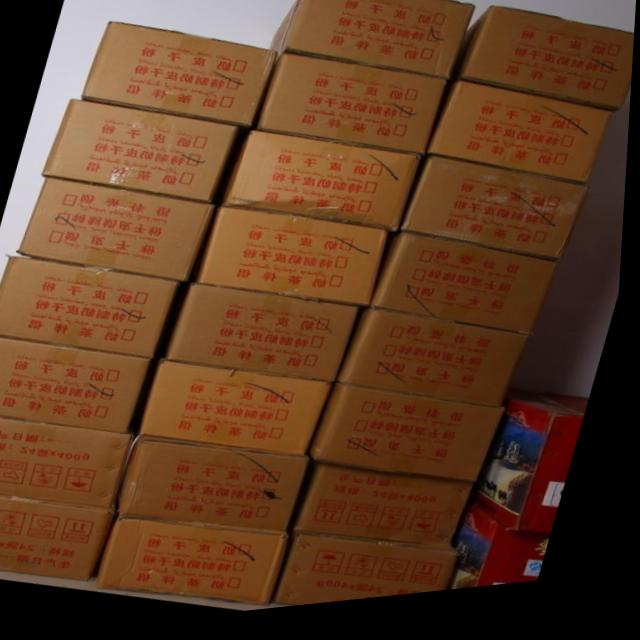box: (43, 98, 251, 208), (216, 132, 424, 240), (17, 177, 220, 286), (192, 210, 401, 315), (80, 22, 277, 133), (163, 286, 372, 390), (403, 161, 590, 274), (139, 362, 343, 464), (0, 255, 192, 362), (312, 390, 511, 493), (253, 59, 450, 163), (372, 240, 562, 347), (427, 90, 617, 196), (452, 15, 635, 125), (343, 316, 539, 417), (121, 437, 312, 538), (101, 517, 296, 613), (270, 0, 476, 90), (301, 461, 481, 557), (475, 402, 593, 546), (0, 336, 163, 437), (282, 537, 465, 612), (0, 417, 139, 513), (0, 494, 125, 584), (456, 512, 556, 600)
